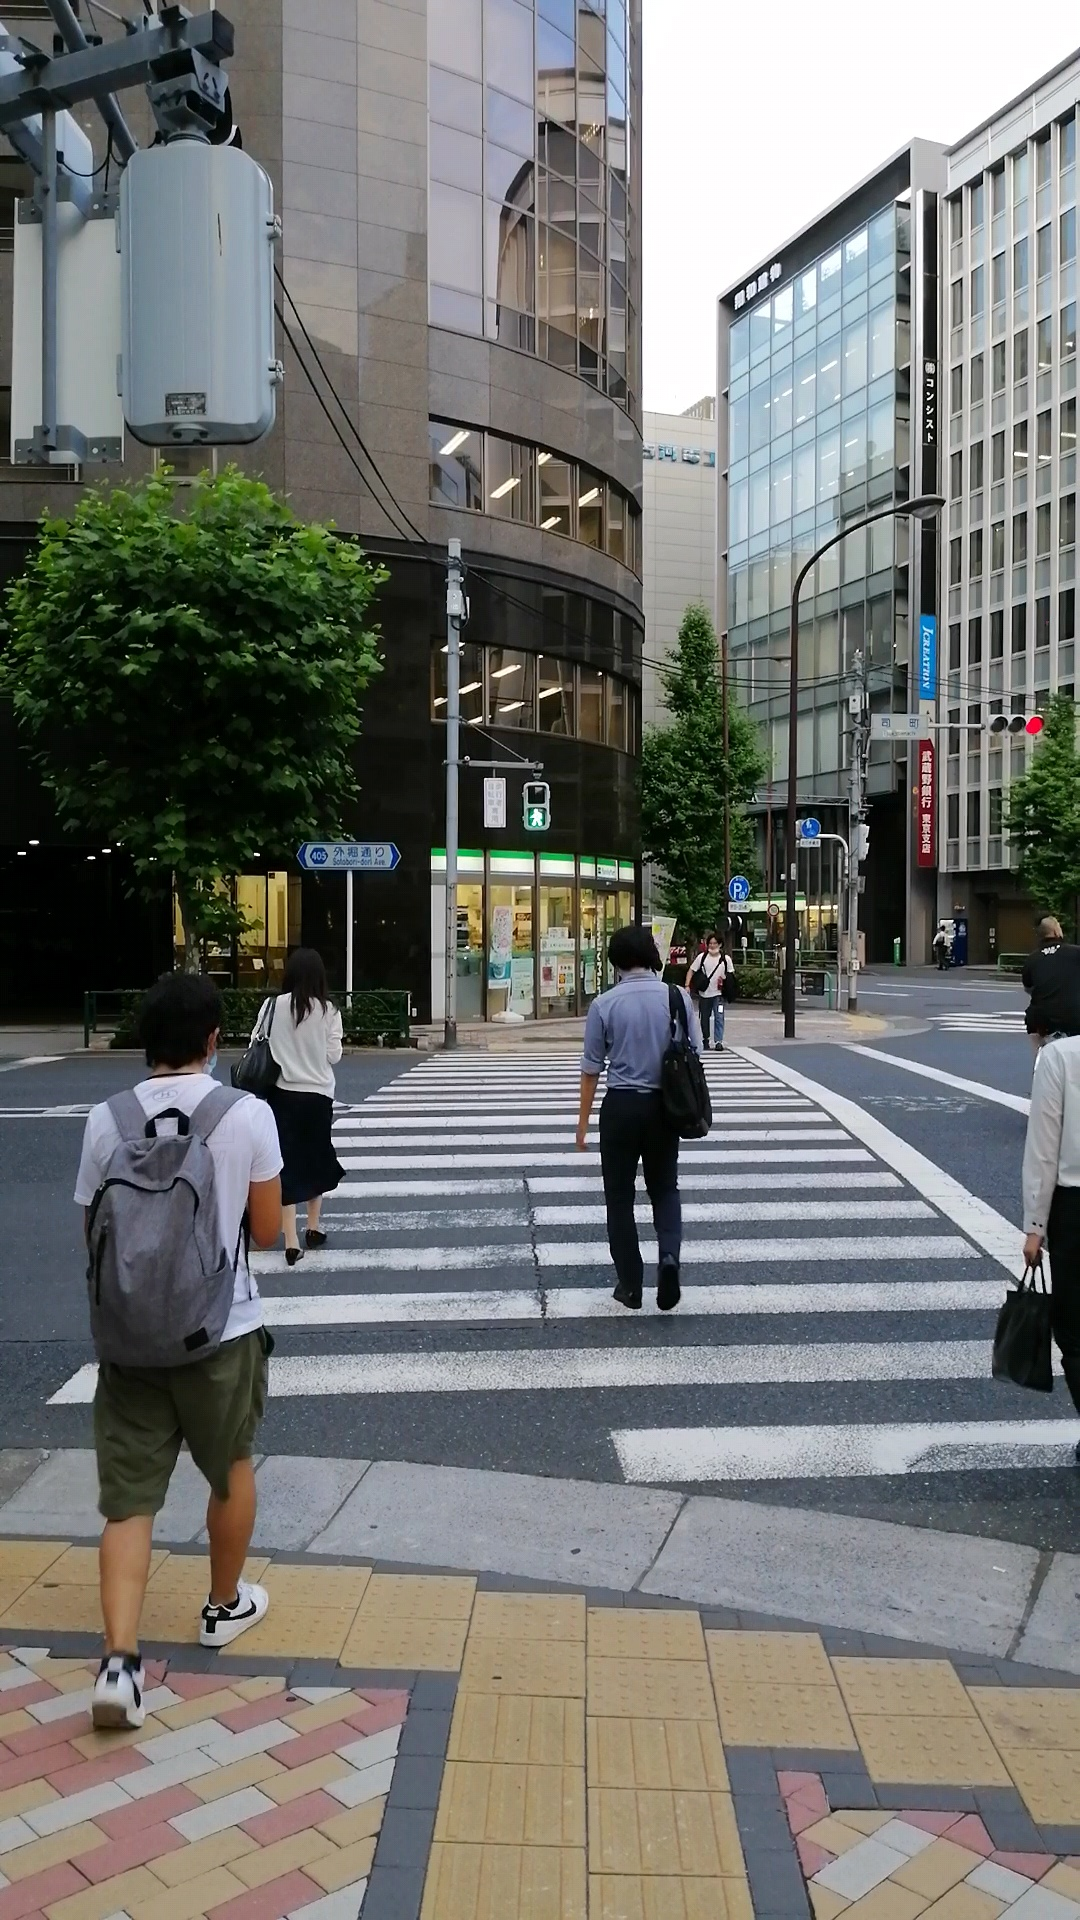green: (520, 781, 551, 831)
